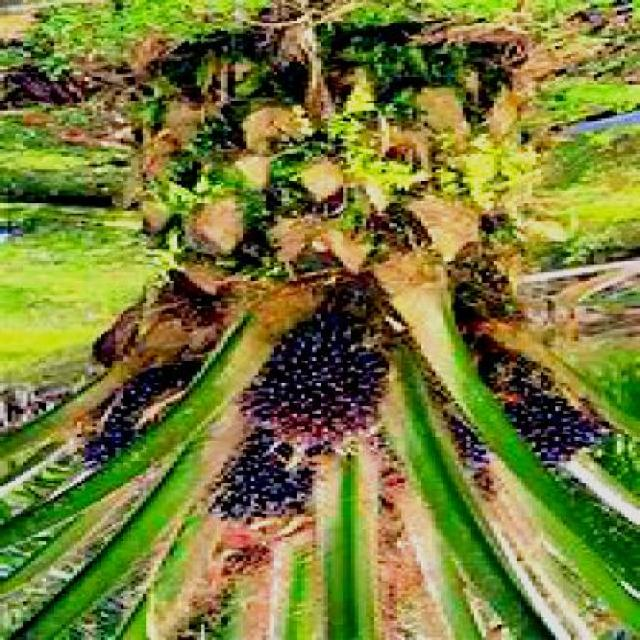palm-oil: (233, 296, 393, 436), (501, 362, 600, 487), (89, 366, 194, 455), (215, 428, 298, 522), (425, 391, 501, 488)
